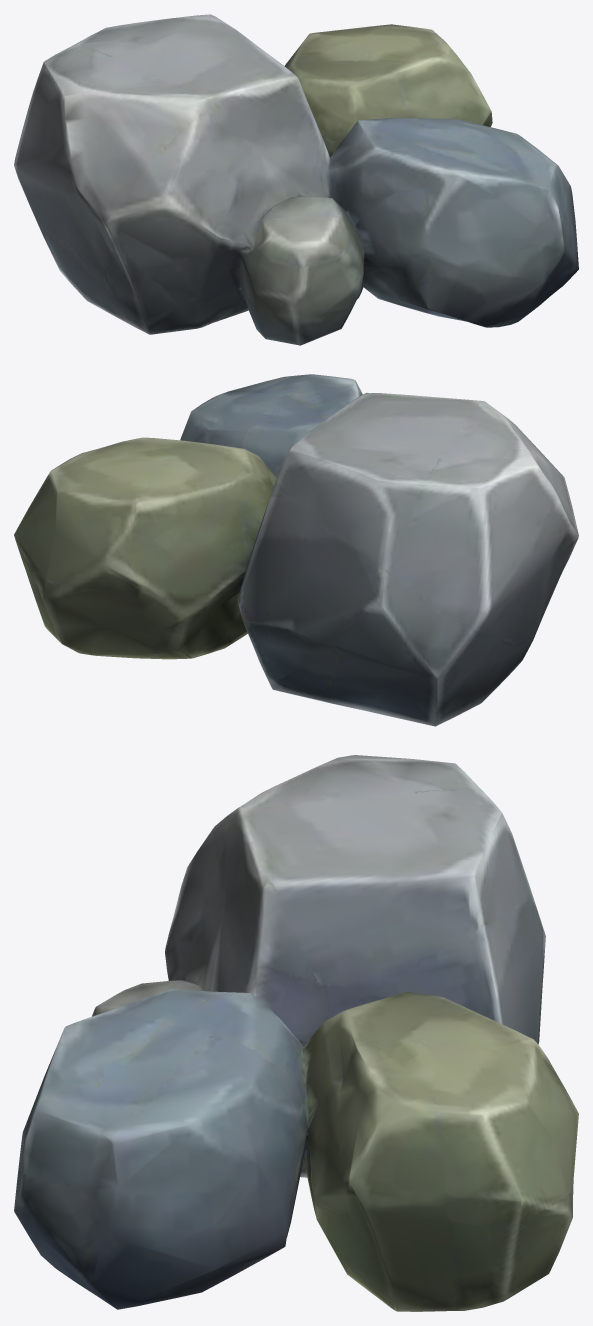
Rendered from rock-cluster.glb.
The picture shows the model from 3 angles, top to bottom: view 1: azimuth 30°, elevation 25°; view 2: azimuth 150°, elevation 25°; view 3: azimuth 270°, elevation 25°; orthographic projection. The views are drawn at different scales.
Size of the model in its own units: 1.9 by 0.9588 by 1.58.
Materials: 1 (1 with a texture image).
